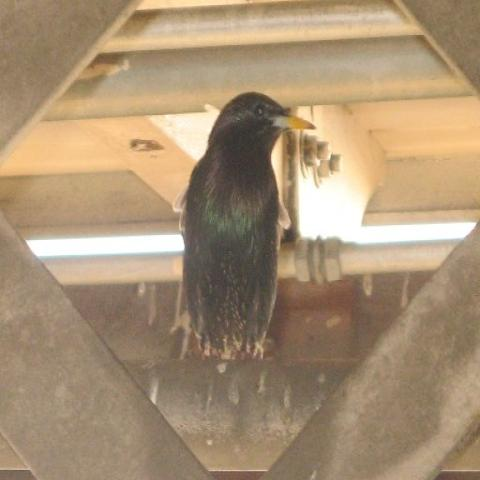bird: (173, 88, 317, 364)
